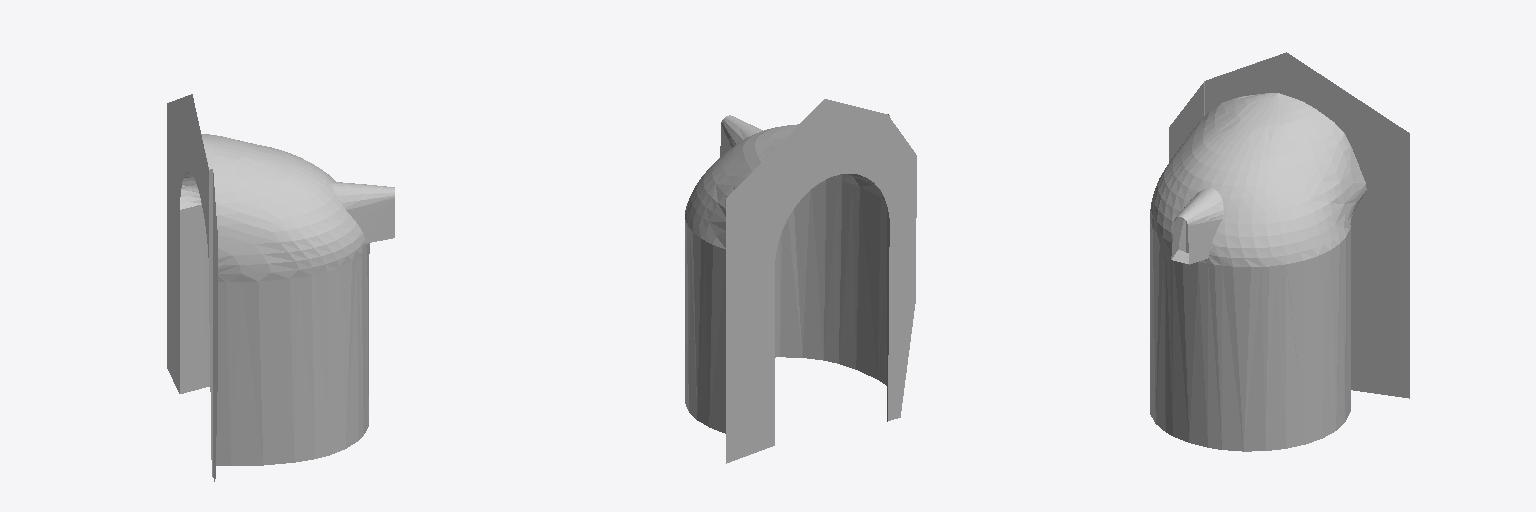
File: Pedret_XIII_absN.obj
The picture shows the model from 3 angles: view 1: azimuth 30°, elevation 25°; view 2: azimuth 150°, elevation 25°; view 3: azimuth 270°, elevation 25°; orthographic projection.
Parts seen in each view (by area): view 1: PEDRET_XIII-baked-absN; view 2: PEDRET_XIII-baked-absN; view 3: PEDRET_XIII-baked-absN.
Part boxes in pixels (x1,y1,x2,y2): PEDRET_XIII-baked-absN: (167,94,394,481); PEDRET_XIII-baked-absN: (685,99,916,463); PEDRET_XIII-baked-absN: (1150,52,1409,451).
Bounding box in the file's own units: 2.37 × 4.23 × 2.86.